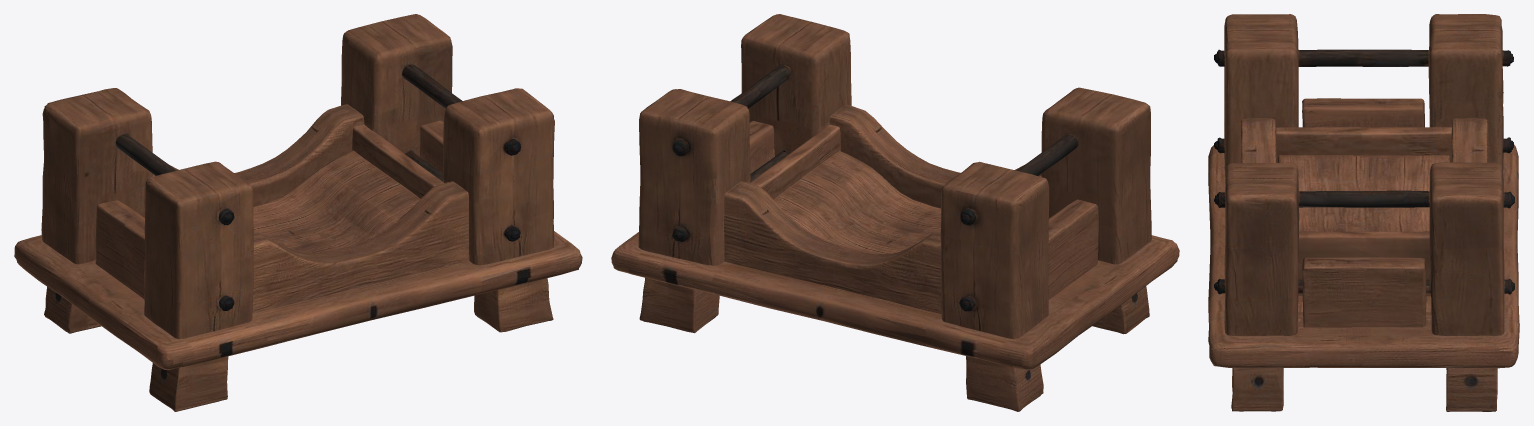
The model's file is cannon-harness.glb.
The picture shows the model from 3 angles, left to right: view 1: azimuth 30°, elevation 25°; view 2: azimuth 150°, elevation 25°; view 3: azimuth 270°, elevation 25°; orthographic projection.
Bounding box in the file's own units: 1 × 0.4863 × 0.6387.
1 material, 1 textured.
